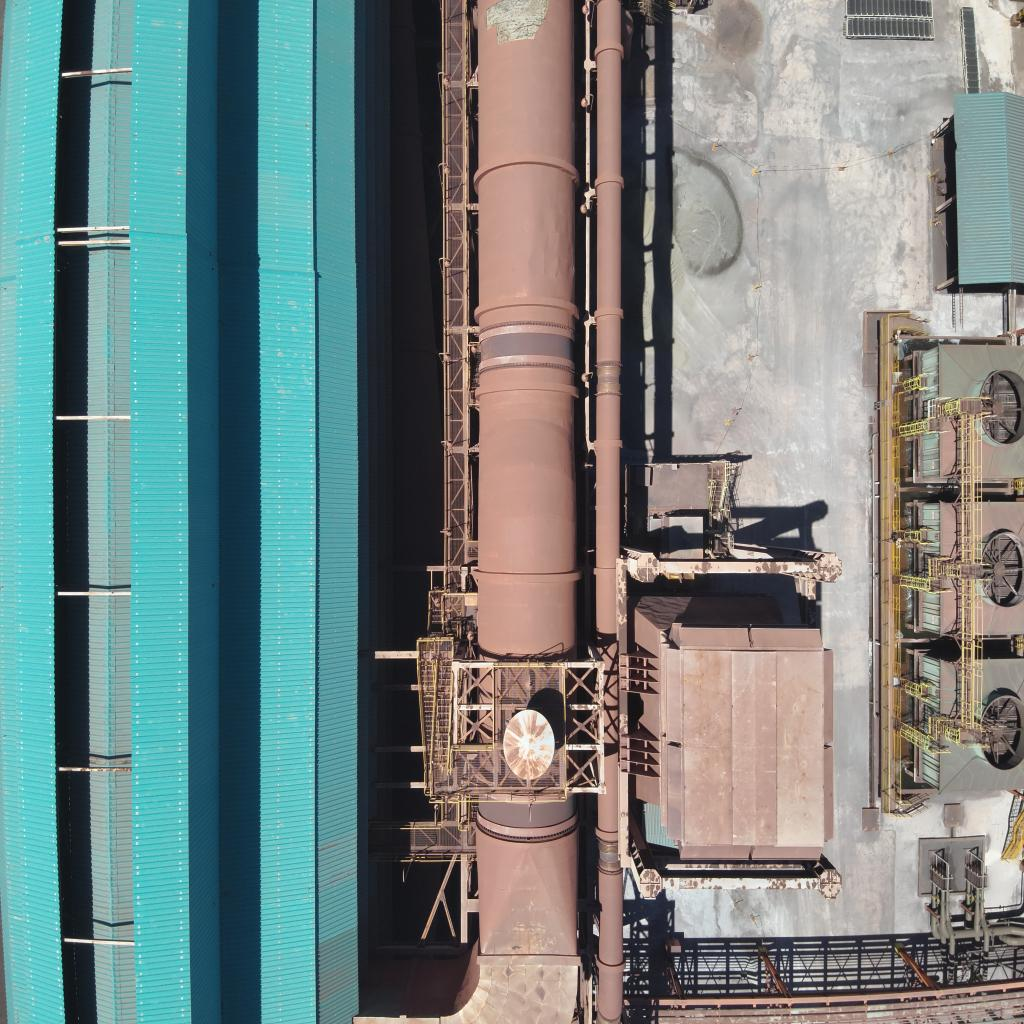Failures: (486, 1, 554, 44)
